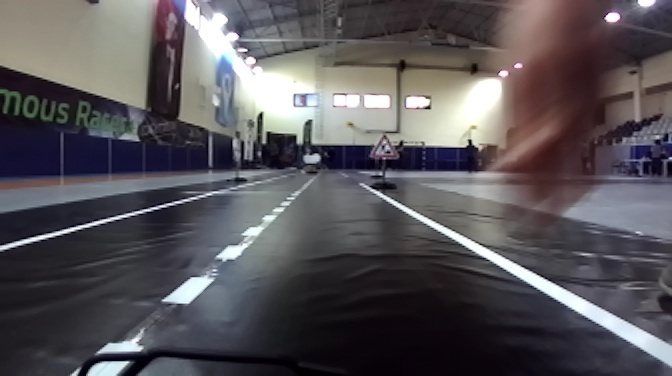yol_yapimi: (370, 133, 401, 165)
